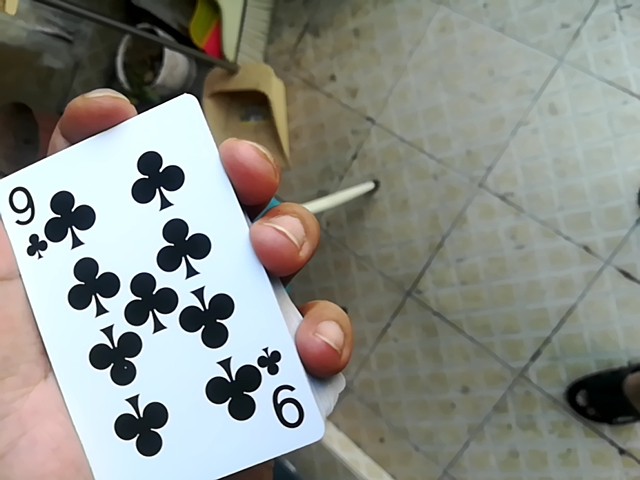mh 9: (0, 98, 336, 479)
